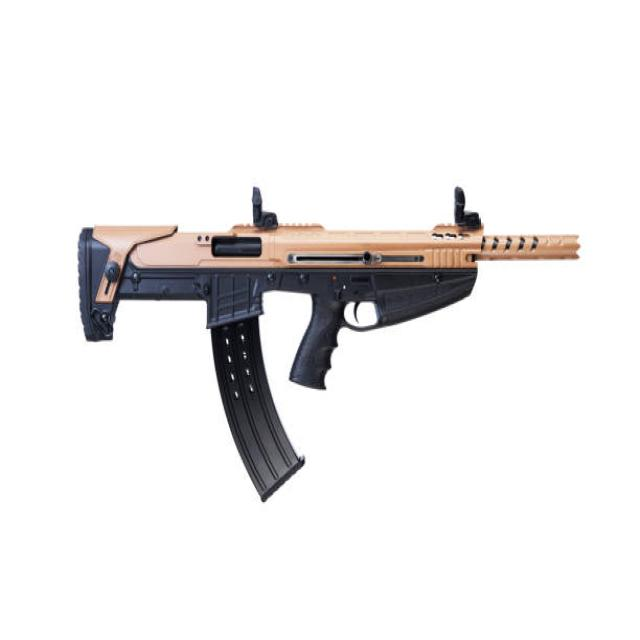rifle: (69, 170, 585, 522)
